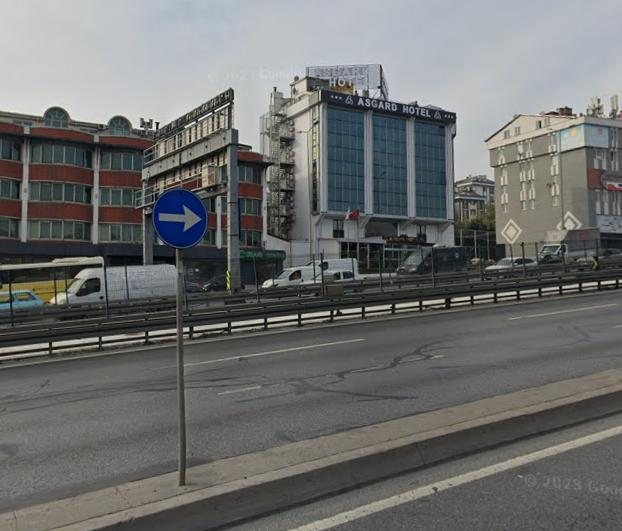turnright: (150, 185, 212, 253)
